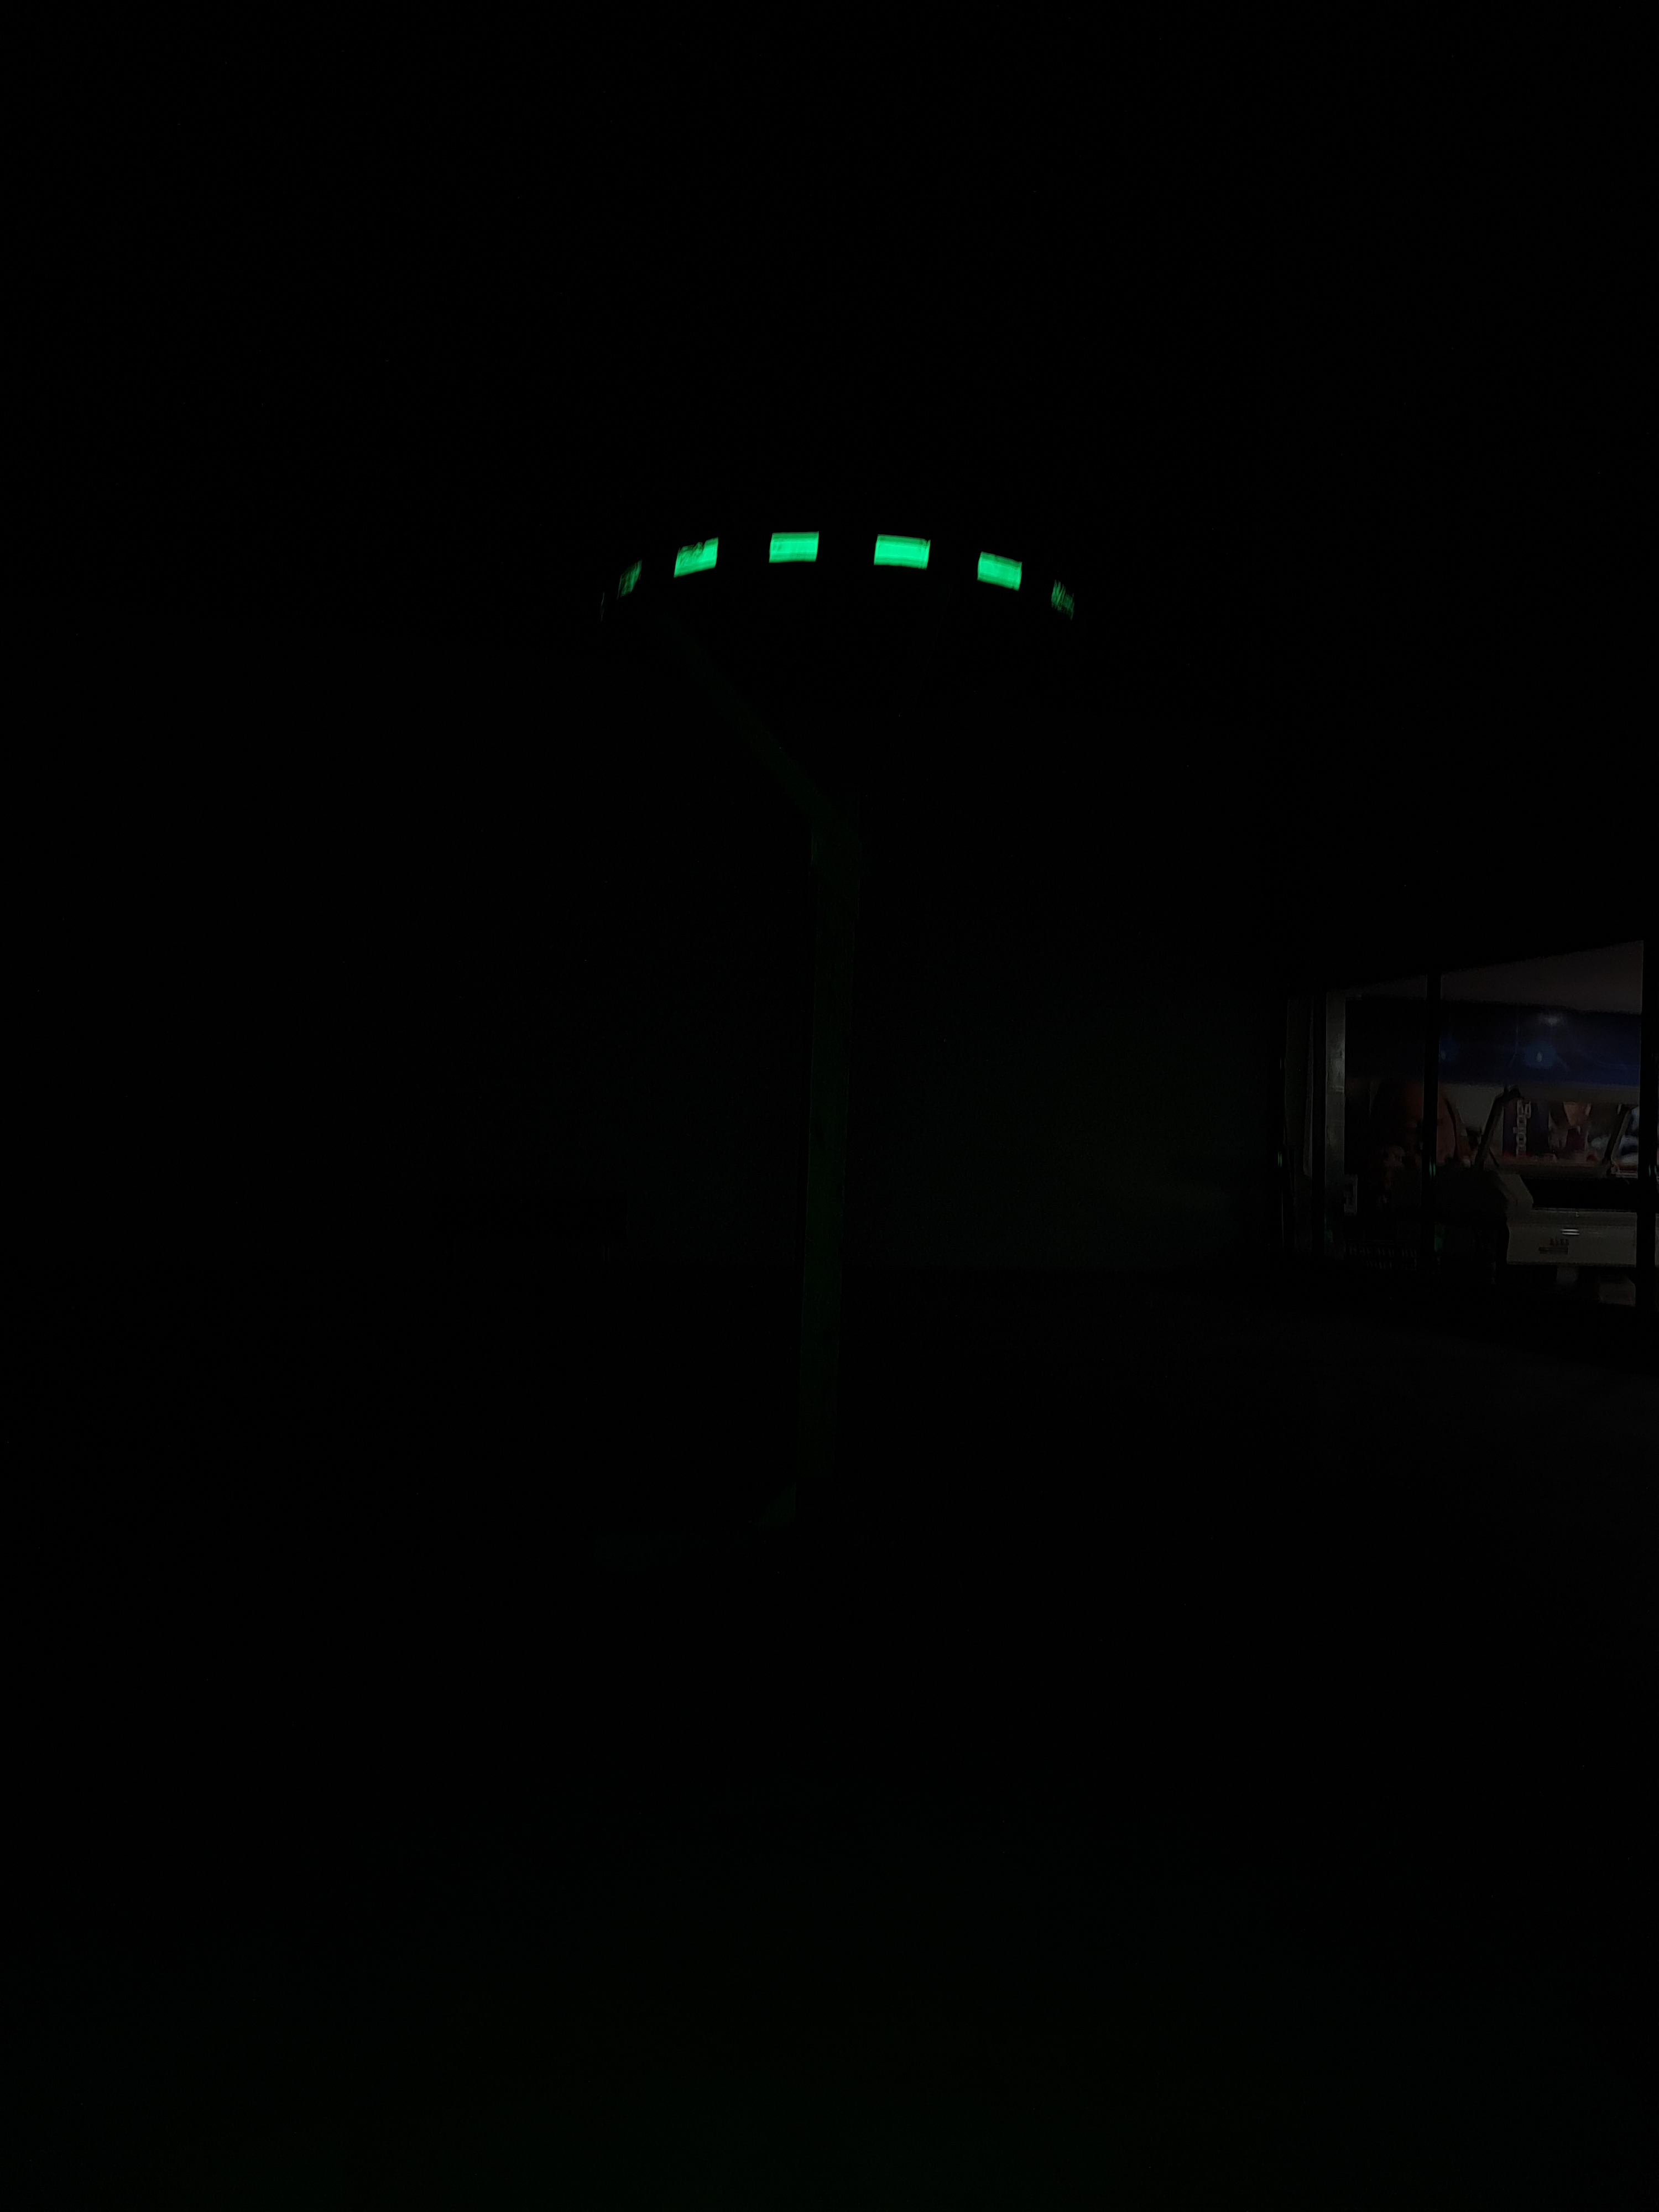hoop: (579, 528, 1089, 636)
